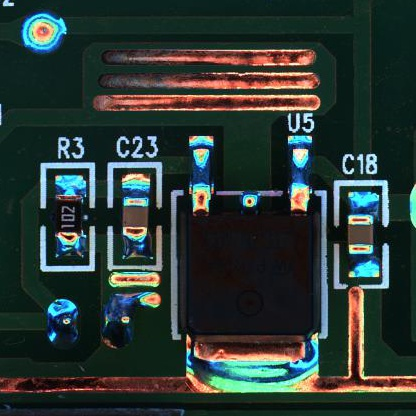spot: (22, 12, 67, 55), (46, 298, 79, 348)
